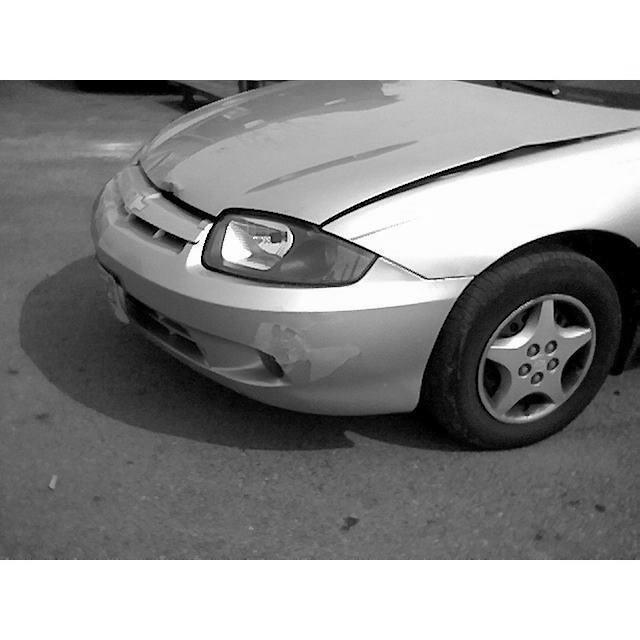bonnet-dent: (125, 128, 288, 248)
fender-dent: (335, 196, 522, 274)
front-bumper-dent: (136, 290, 425, 416)
